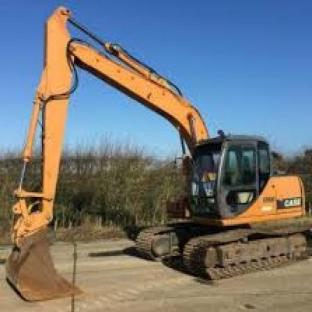ExcavationMachinery: (6, 6, 298, 290)
